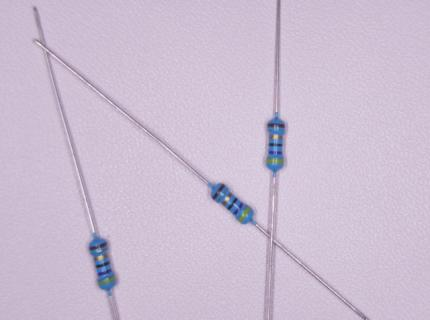Black band: (226, 196, 238, 211), (95, 261, 111, 268), (269, 143, 283, 147)
Brown band: (211, 183, 226, 201), (89, 241, 107, 251), (267, 123, 285, 128)
Gold band: (221, 192, 233, 207), (93, 253, 108, 261), (269, 135, 283, 140)
Violet band: (232, 201, 243, 216), (97, 268, 113, 276), (268, 150, 283, 155)
Yellow band: (237, 206, 251, 223), (97, 276, 117, 285), (266, 158, 284, 164)
